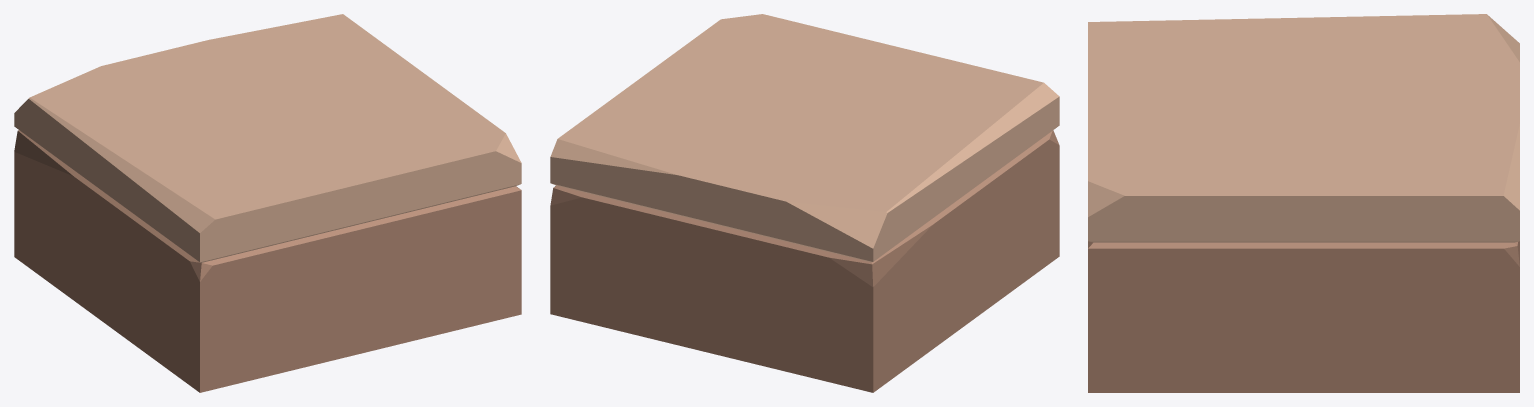
Rendered from Path.gltf.
3 views of the same model, side by side, from view 1: azimuth 30°, elevation 25°; view 2: azimuth 150°, elevation 25°; view 3: azimuth 270°, elevation 25° (orthographic). The views are drawn at different scales.
Visible parts, largest first — view 1: Level cube.004, Level cube.007; view 2: Level cube.004, Level cube.007; view 3: Level cube.004, Level cube.007.
Part boxes in pixels (x1,y1,x2,y2): Level cube.004: (14, 14, 521, 262); Level cube.007: (14, 130, 521, 392); Level cube.004: (550, 14, 1059, 262); Level cube.007: (550, 130, 1059, 392); Level cube.004: (1088, 14, 1519, 242); Level cube.007: (1088, 241, 1519, 392).
Bounding box in the file's own units: 3.97 × 2 × 3.97.
